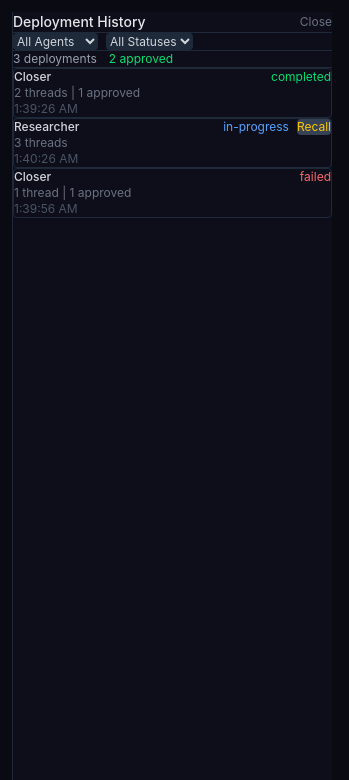
it: Deployment history filters › filters by status
Select "failed" in the dropdown with test id "filter-status" at coordinates (150, 42), box [106,33,193,50]
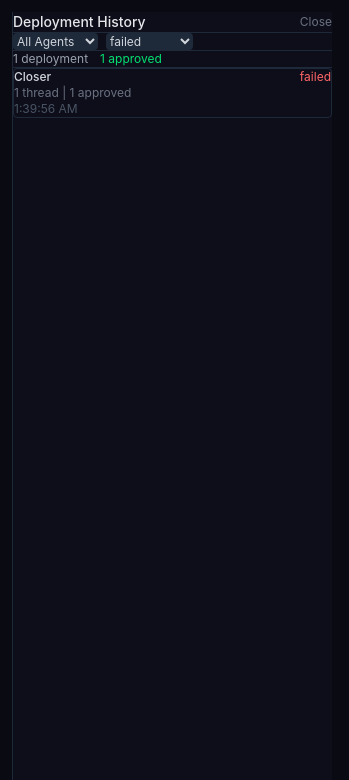
Expected: the element with test id "deployment-d3" is shown, [13,68,332,118]
Expected: the element with test id "deployment-d1" is gone
Expected: the element with test id "deployment-d2" is gone
